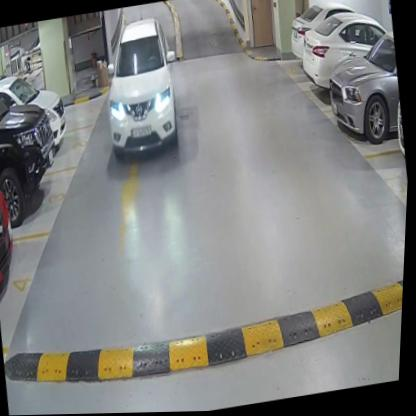np: (131, 122, 155, 143)
